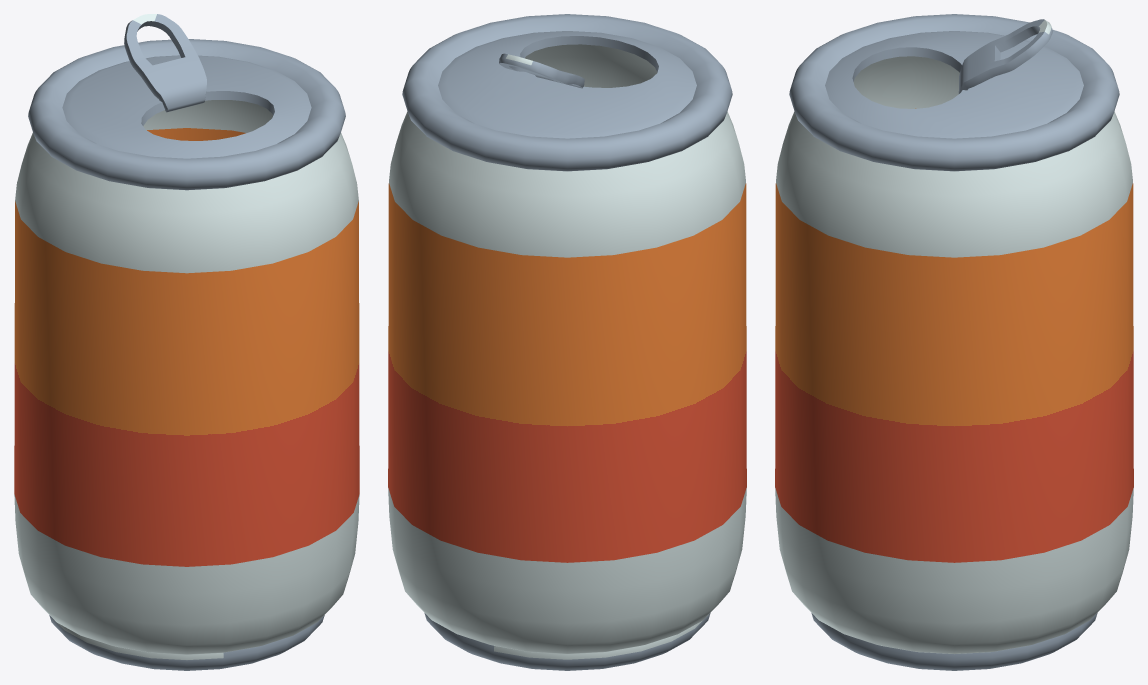
The model's file is lata.fbx.
The picture shows the model from 3 angles, left to right: view 1: azimuth 30°, elevation 25°; view 2: azimuth 150°, elevation 25°; view 3: azimuth 270°, elevation 25°; orthographic projection. The views are drawn at different scales.
Parts seen in each view (by area): view 1: lata; view 2: lata; view 3: lata.
Boxes of the visible parts, x1=… form: lata: x1=14, y1=14, x2=359, y2=670; lata: x1=388, y1=14, x2=746, y2=670; lata: x1=775, y1=14, x2=1133, y2=670.
Bounding box in the file's own units: 25.12 × 45.66 × 25.12.
